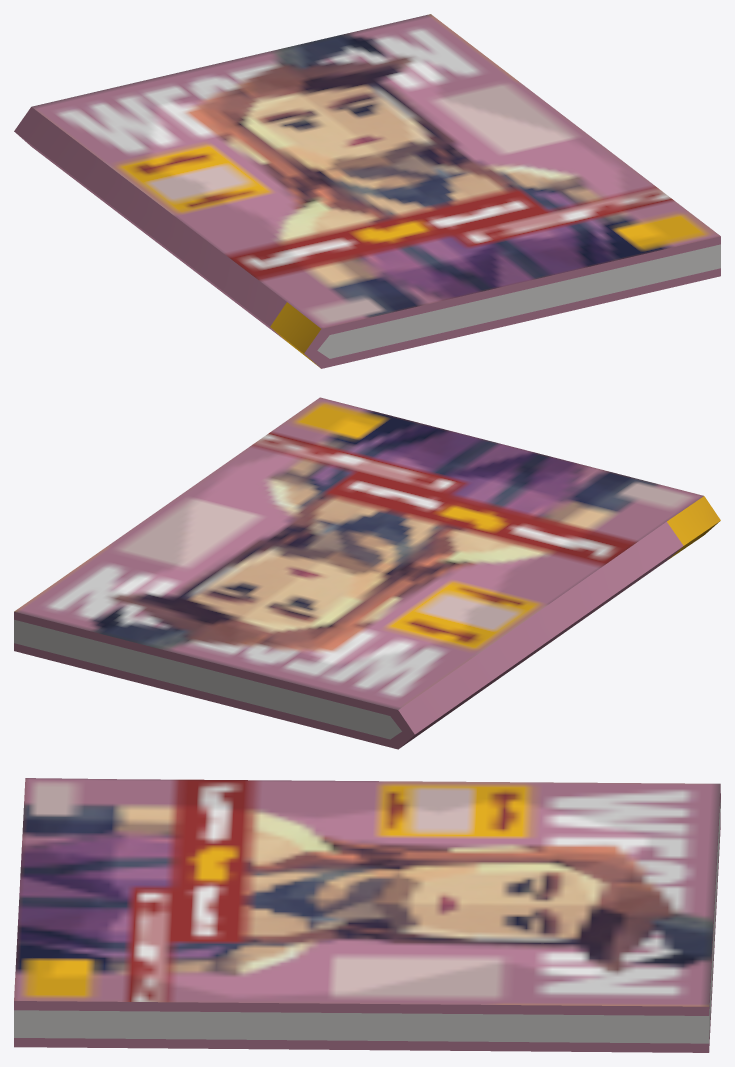
Rendered from SM_Prop_Book_Magazine_02.glb.
3 renders of one model, top to bottom at view 1: azimuth 30°, elevation 25°; view 2: azimuth 150°, elevation 25°; view 3: azimuth 270°, elevation 25°, orthographic. The views are drawn at different scales.
Parts seen in each view (by area): view 1: SM_Prop_Book_Magazine_02; view 2: SM_Prop_Book_Magazine_02; view 3: SM_Prop_Book_Magazine_02.
Boxes of the visible parts, bbox=[...] form: SM_Prop_Book_Magazine_02: bbox=[14, 14, 720, 368]; SM_Prop_Book_Magazine_02: bbox=[14, 397, 720, 749]; SM_Prop_Book_Magazine_02: bbox=[14, 778, 720, 1052].
Size of the model in its own units: 0.3084 by 0.0279 by 0.3866.
1 material, 1 textured.
